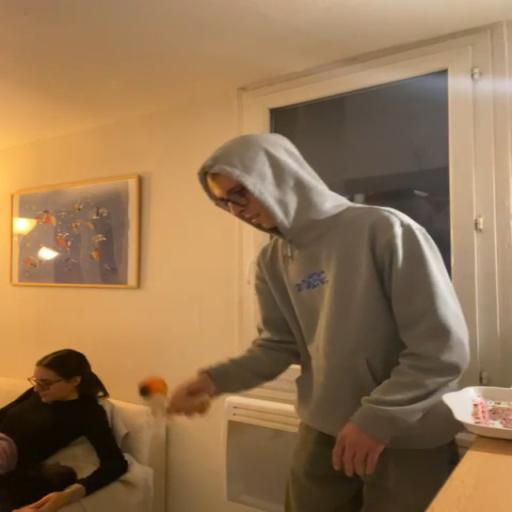kendama_ball: (138, 375, 168, 401)
